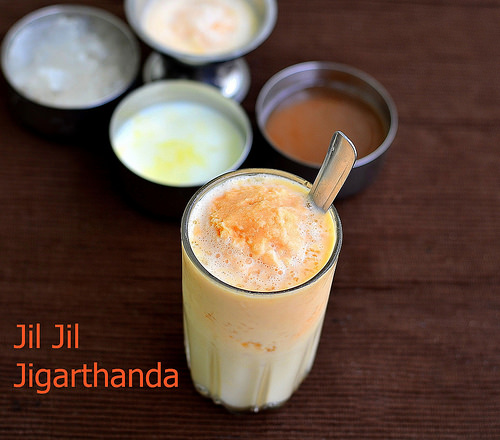jigirthanda: (189, 180, 319, 402)
